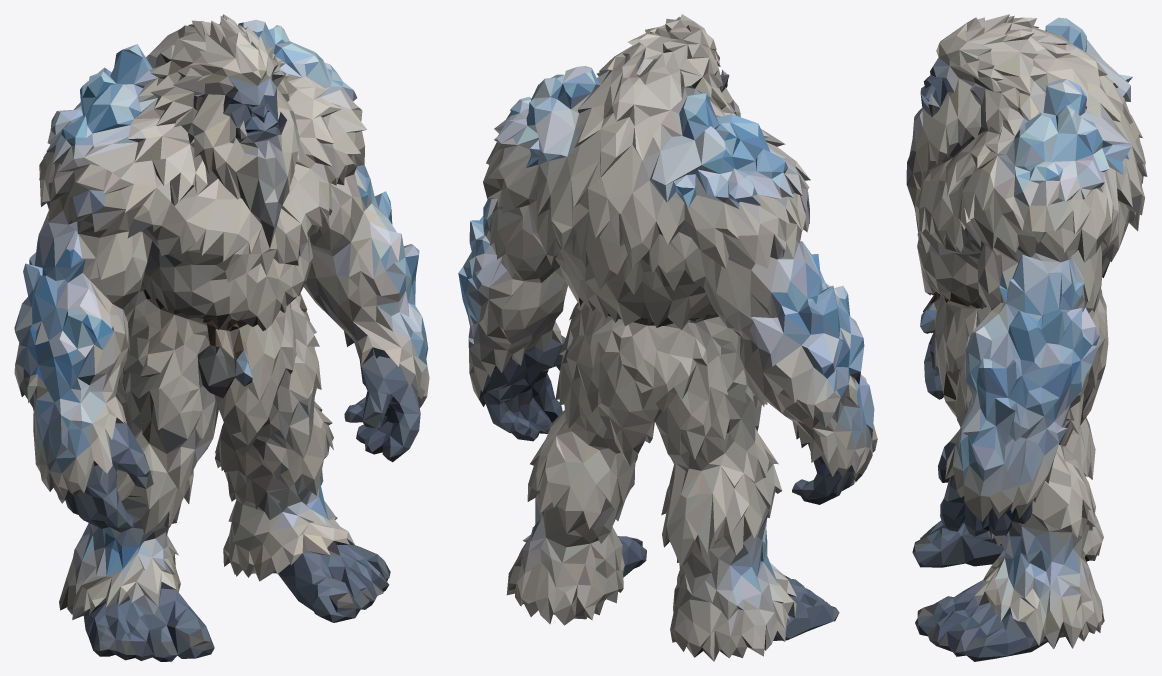
File: ancient-yeti.glb
The picture shows the model from 3 angles, left to right: view 1: azimuth 30°, elevation 25°; view 2: azimuth 150°, elevation 25°; view 3: azimuth 270°, elevation 25°; orthographic projection. The views are drawn at different scales.
Parts seen in each view (by area): view 1: tripo_node_efbdffd0-5963-4419-b965-49c360db207b; view 2: tripo_node_efbdffd0-5963-4419-b965-49c360db207b; view 3: tripo_node_efbdffd0-5963-4419-b965-49c360db207b.
Part boxes in pixels (x1=…): tripo_node_efbdffd0-5963-4419-b965-49c360db207b: x1=14, y1=14, x2=429, y2=661; tripo_node_efbdffd0-5963-4419-b965-49c360db207b: x1=458, y1=14, x2=877, y2=661; tripo_node_efbdffd0-5963-4419-b965-49c360db207b: x1=906, y1=14, x2=1147, y2=661.
Bounding box in the file's own units: 1.43 × 2.1 × 0.7871.
